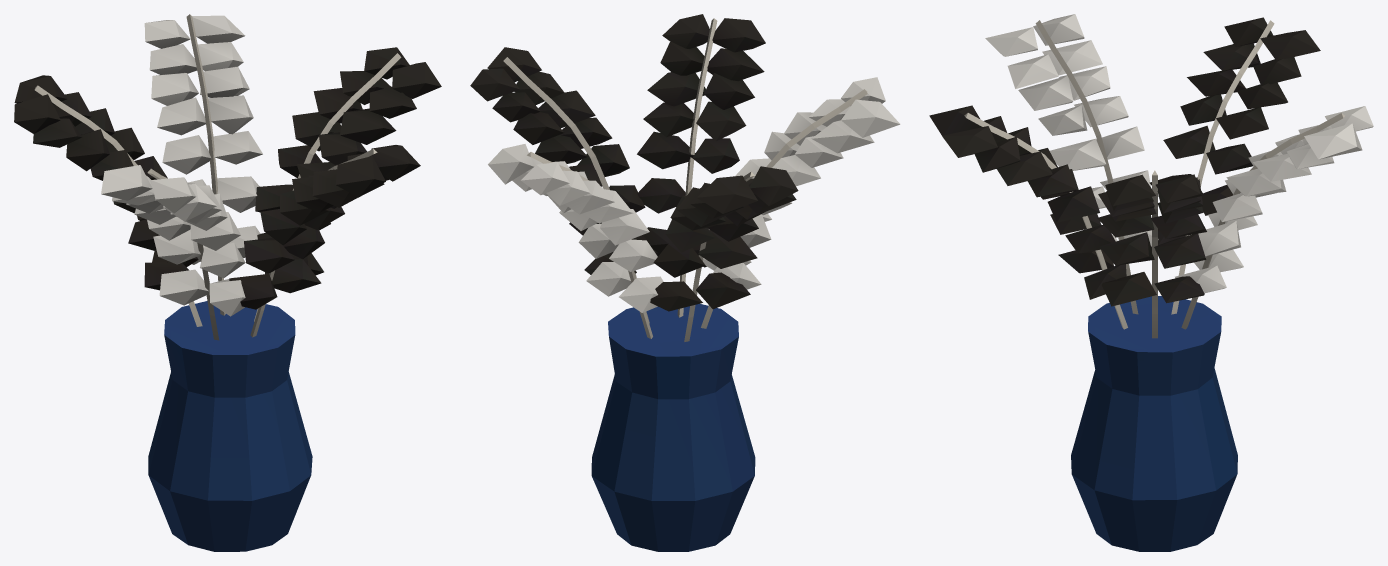
The picture shows the model from 3 angles, left to right: view 1: azimuth 30°, elevation 25°; view 2: azimuth 150°, elevation 25°; view 3: azimuth 270°, elevation 25°; orthographic projection. The views are drawn at different scales.
Parts seen in each view (by area): view 1: base; view 2: base; view 3: base.
Part boxes in pixels (x1,y1,x2,y2): base: (14,14,441,551); base: (470,14,900,551); base: (929,14,1373,551).
Size of the model in its own units: 0.503 by 0.5633 by 0.5157.
